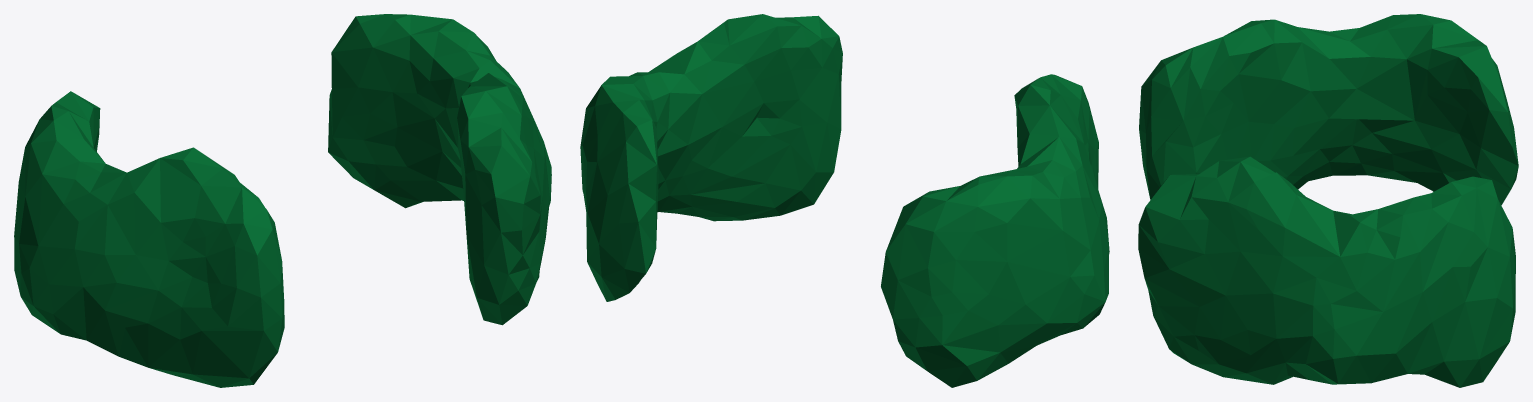
The model's file is 65-MDL-mediodorsal thalamic nucleus, lateral part-('0.0000', '0.4980', '0.2275').obj.
3 views of the same model, side by side, from view 1: azimuth 30°, elevation 25°; view 2: azimuth 150°, elevation 25°; view 3: azimuth 270°, elevation 25° (orthographic). The views are drawn at different scales.
Size of the model in its own units: 71.5 by 29.16 by 46.86.
